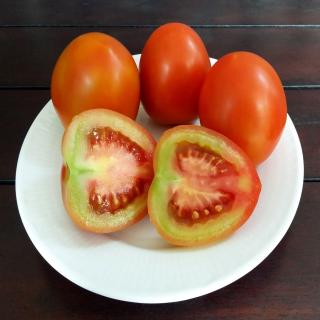Tomat: (148, 125, 263, 248), (200, 52, 289, 168), (51, 32, 142, 131), (140, 23, 213, 126)
